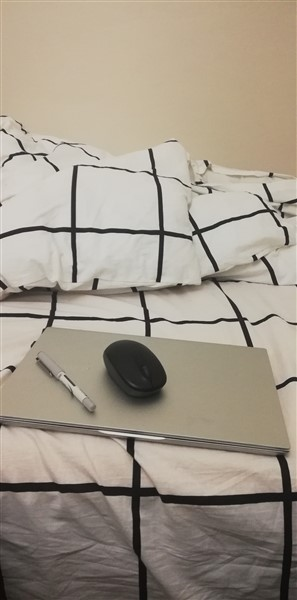laptop: (3, 309, 297, 456)
mouse: (103, 338, 178, 408)
pilot kalem: (35, 351, 99, 417)
